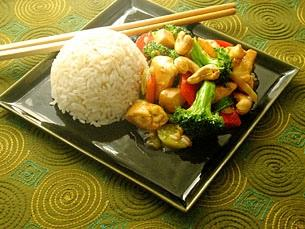broccoli: (168, 81, 224, 147), (189, 37, 232, 86), (143, 41, 181, 64), (154, 24, 194, 41)
